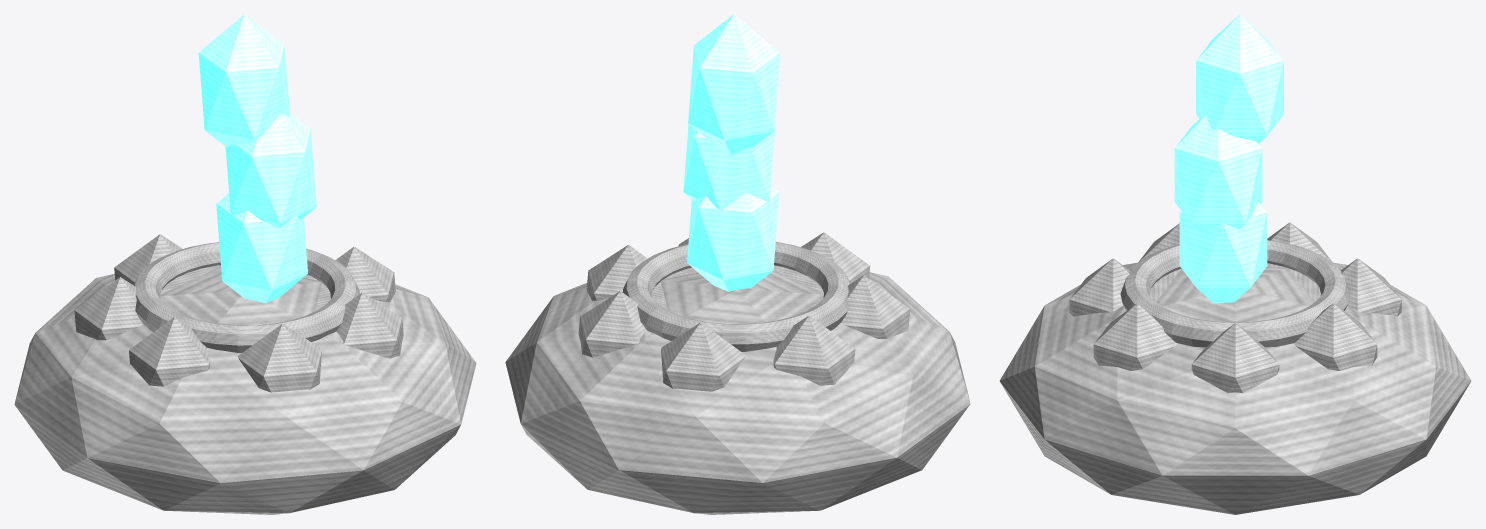
File: geyser_variant_c.glb
3 views of the same model, side by side, from view 1: azimuth 30°, elevation 25°; view 2: azimuth 150°, elevation 25°; view 3: azimuth 270°, elevation 25° (orthographic).
Visible parts, largest first — view 1: Geyser mound.003, Steam plume volume.008, Geothermal rim.003, Steam plume volume.007, Steam plume volume.006, Vent rock.019, Vent rock.018, Vent rock.020, Vent rock.017, Vent rock.014, Vent rock.016, Vent throat.002; view 2: Geyser mound.003, Steam plume volume.008, Geothermal rim.003, Steam plume volume.006, Steam plume volume.007, Vent rock.016, Vent rock.017, Vent rock.015, Vent rock.018, Vent rock.014, Vent rock.019, Vent throat.002; view 3: Geyser mound.003, Steam plume volume.008, Geothermal rim.003, Steam plume volume.007, Steam plume volume.006, Vent rock.014, Vent rock.015, Vent rock.020, Vent rock.016, Vent rock.019, Vent rock.017, Vent throat.002.
Part boxes in pixels (x1,y1,x2,y2): Geyser mound.003: [14, 266, 476, 514]; Steam plume volume.008: [198, 14, 289, 147]; Geothermal rim.003: [134, 242, 359, 352]; Steam plume volume.007: [225, 113, 316, 228]; Steam plume volume.006: [216, 193, 307, 303]; Vent rock.019: [237, 323, 321, 392]; Vent rock.018: [129, 317, 210, 386]; Vent rock.020: [336, 292, 403, 358]; Vent rock.017: [74, 277, 142, 340]; Vent rock.014: [335, 246, 395, 302]; Vent rock.016: [114, 234, 182, 285]; Vent throat.002: [160, 265, 330, 312]; Geyser mound.003: [505, 270, 970, 514]; Steam plume volume.008: [688, 14, 780, 155]; Geothermal rim.003: [622, 242, 850, 351]; Steam plume volume.006: [687, 186, 779, 291]; Steam plume volume.007: [683, 122, 775, 210]; Vent rock.016: [661, 322, 745, 391]; Vent rock.017: [773, 315, 855, 385]; Vent rock.015: [578, 291, 646, 357]; Vent rock.018: [841, 275, 910, 338]; Vent rock.014: [586, 244, 647, 300]; Vent rock.019: [801, 232, 869, 283]; Vent throat.002: [652, 265, 823, 311]; Geyser mound.003: [999, 262, 1471, 514]; Steam plume volume.008: [1196, 14, 1283, 143]; Geothermal rim.003: [1120, 240, 1350, 347]; Steam plume volume.007: [1174, 115, 1262, 232]; Steam plume volume.006: [1179, 202, 1267, 303]; Vent rock.014: [1191, 323, 1279, 392]; Vent rock.015: [1293, 303, 1377, 370]; Vent rock.020: [1093, 303, 1177, 370]; Vent rock.016: [1340, 258, 1401, 316]; Vent rock.019: [1069, 258, 1130, 316]; Vent rock.017: [1267, 222, 1332, 262]; Vent throat.002: [1150, 263, 1320, 301].
Size of what is drawn, in the model's own units: 3.04 by 3.45 by 3.2.
4 materials, 4 textured.
